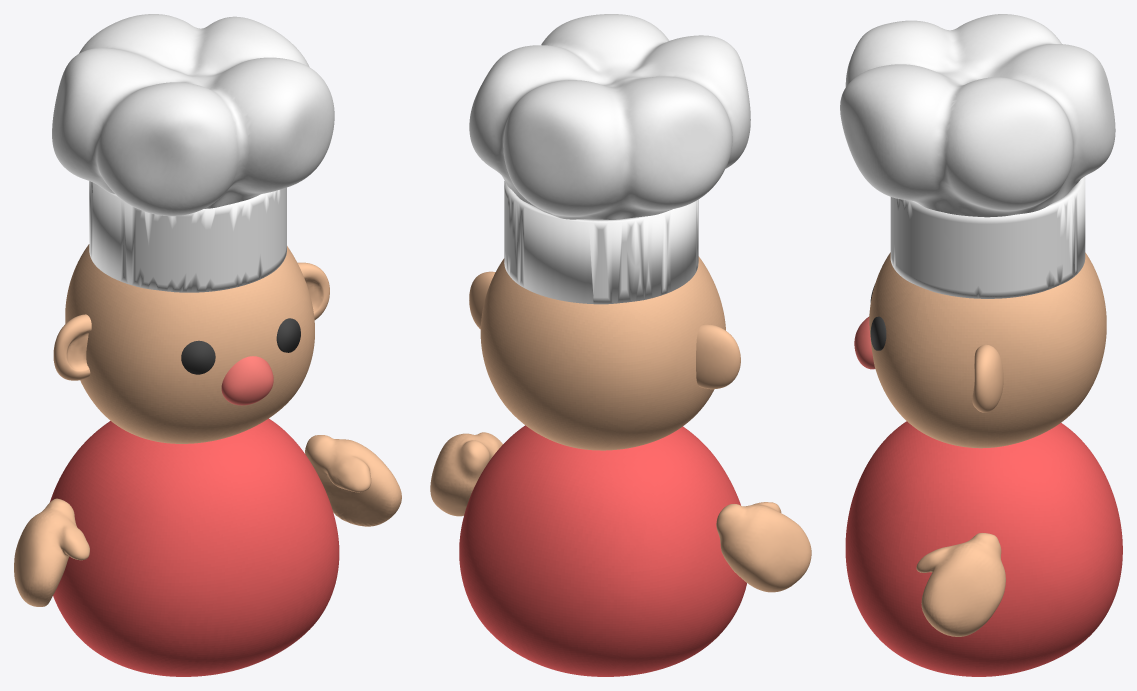
The model's file is little_chef_overcooked_like.glb.
3 renders of one model, left to right at view 1: azimuth 30°, elevation 25°; view 2: azimuth 150°, elevation 25°; view 3: azimuth 270°, elevation 25°, orthographic.
Bounding box in the file's own units: 2.29 × 3.56 × 1.52.
1 material, 1 textured.
